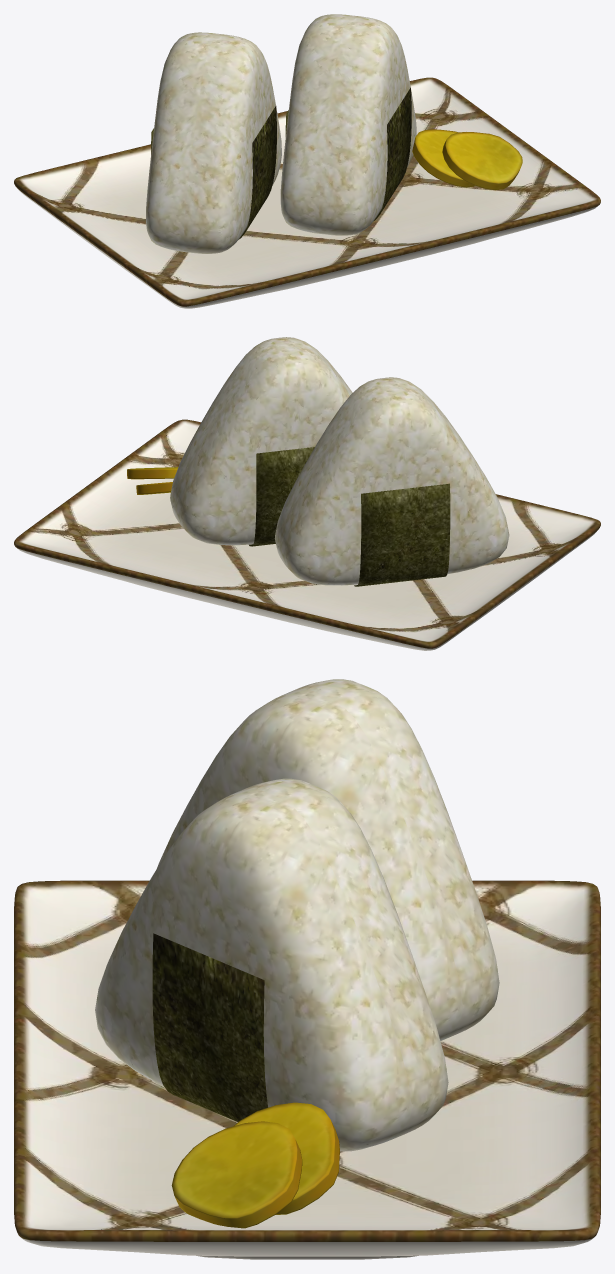
File: riceball_comp.glb
3 views of the same model, one above another, from view 1: azimuth 30°, elevation 25°; view 2: azimuth 150°, elevation 25°; view 3: azimuth 270°, elevation 25° (orthographic). The views are drawn at different scales.
Parts seen in each view (by area): view 1: RiceBall; view 2: RiceBall; view 3: RiceBall.
Boxes of the visible parts, <box> form: RiceBall: <box>14,14,600,308</box>; RiceBall: <box>14,337,600,650</box>; RiceBall: <box>14,679,600,1259</box>.
Size of the model in its own units: 0.1602 by 0.0738 by 0.1123.
1 material, 1 textured.
